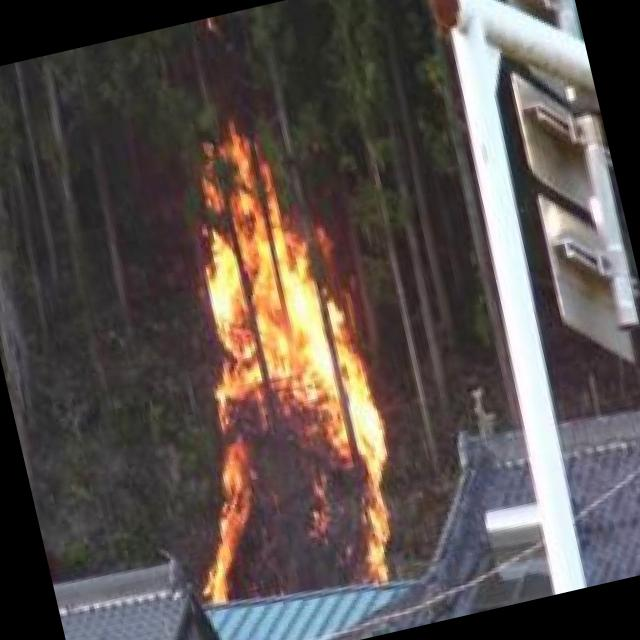Fire: (117, 117, 420, 620)
